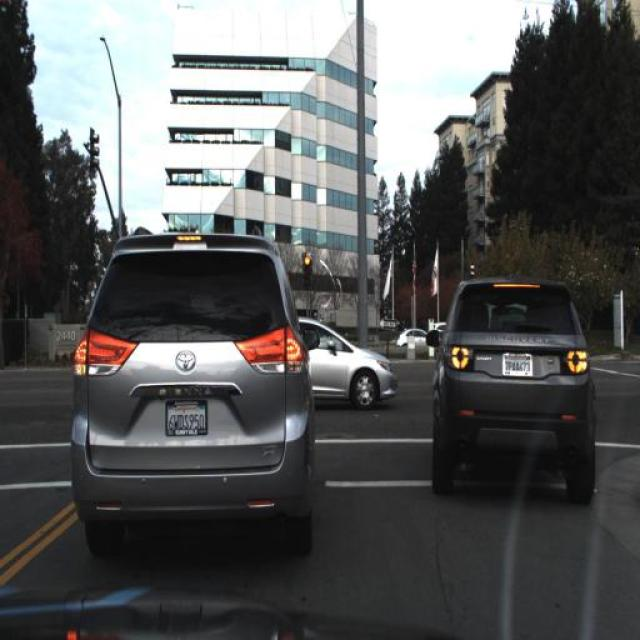car: (72, 223, 327, 562), (414, 254, 594, 506), (288, 290, 401, 435), (300, 316, 399, 410), (398, 329, 443, 356)
trafficLight-Green: (298, 245, 316, 291)
trafficLight-RedLeft: (296, 230, 320, 304)
